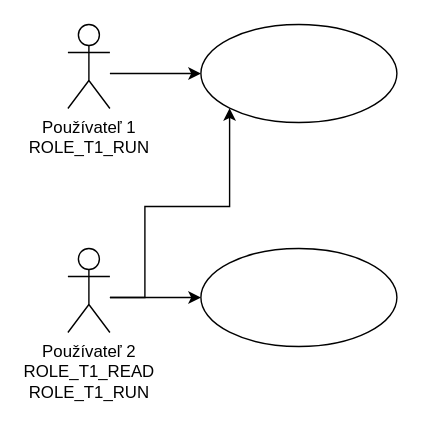
The diagram is 421 pixels wide and 448 high, and some of its shapes have lost their labels. The centre of each missing label's shape, as x and y in pixels:
"Spustit T1" goes at pixel 298 72.
"Čítať dáta z prechodu T1" goes at pixel 298 296.
